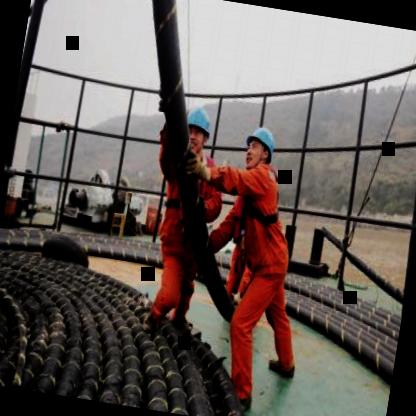helmet: (237, 119, 282, 178), (182, 102, 216, 160)
